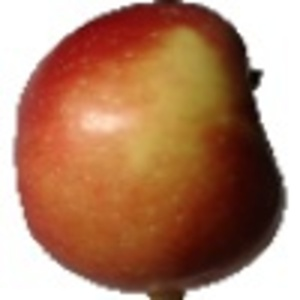maçã braeburn: (8, 1, 289, 290)
